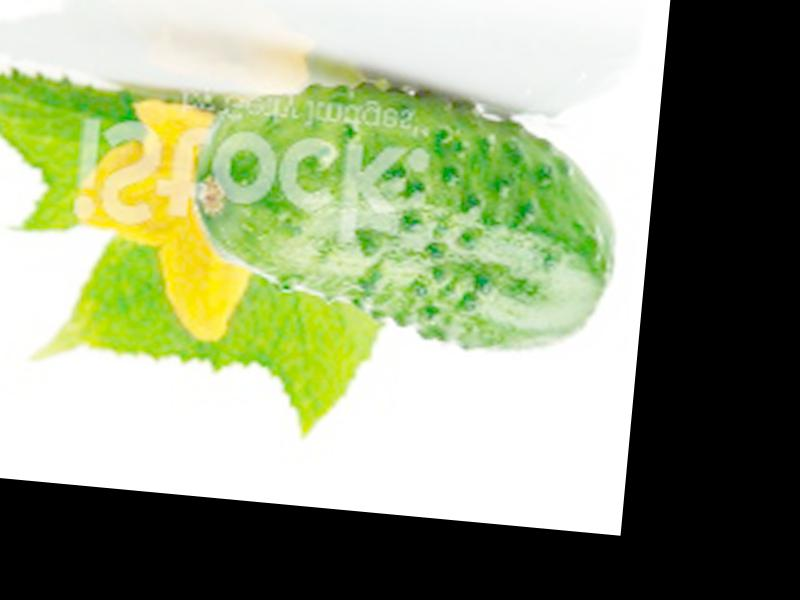Cucumber: (187, 72, 628, 361)
